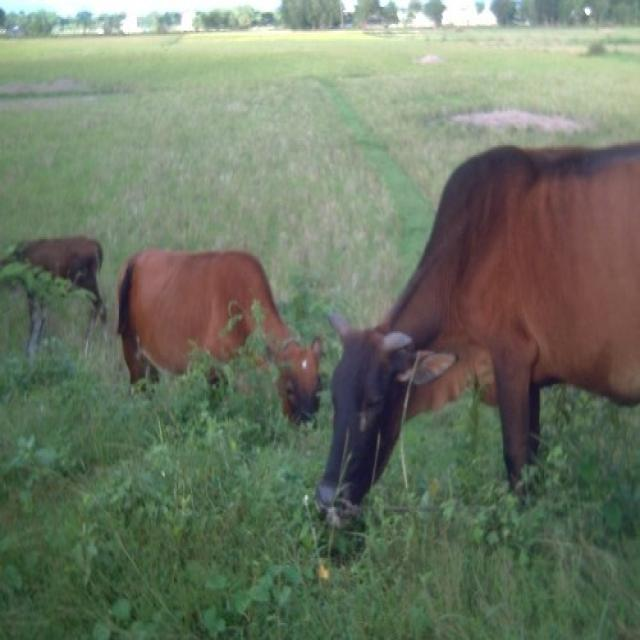cow: (317, 144, 639, 562), (116, 247, 327, 433), (0, 230, 110, 366)
